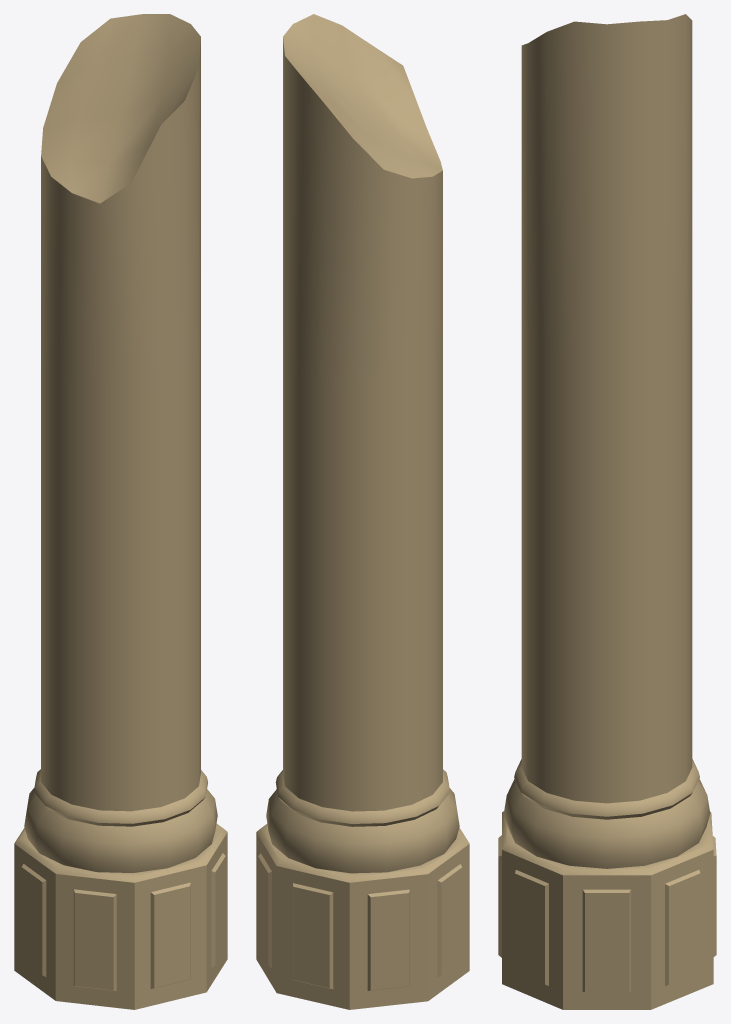
The model's file is pillar_01B.fbx.
3 renders of one model, left to right at view 1: azimuth 30°, elevation 25°; view 2: azimuth 150°, elevation 25°; view 3: azimuth 270°, elevation 25°, orthographic. The views are drawn at different scales.
Parts seen in each view (by area): view 1: pillar_01B_B, pillar_01B_C, pillar_01B; view 2: pillar_01B_B, pillar_01B_C, pillar_01B; view 3: pillar_01B_B, pillar_01B_C, pillar_01B.
Boxes of the visible parts, x1,y1,x2,y2 form: pillar_01B_B: (41,356,200,811); pillar_01B_C: (41,14,200,393); pillar_01B: (14,769,227,1009); pillar_01B_B: (283,356,442,811); pillar_01B_C: (283,14,442,393); pillar_01B: (256,769,469,1009); pillar_01B_B: (521,325,692,803); pillar_01B_C: (521,14,692,360); pillar_01B: (498,759,716,1009).
Size of the model in its own units: 194 by 962 by 195.
